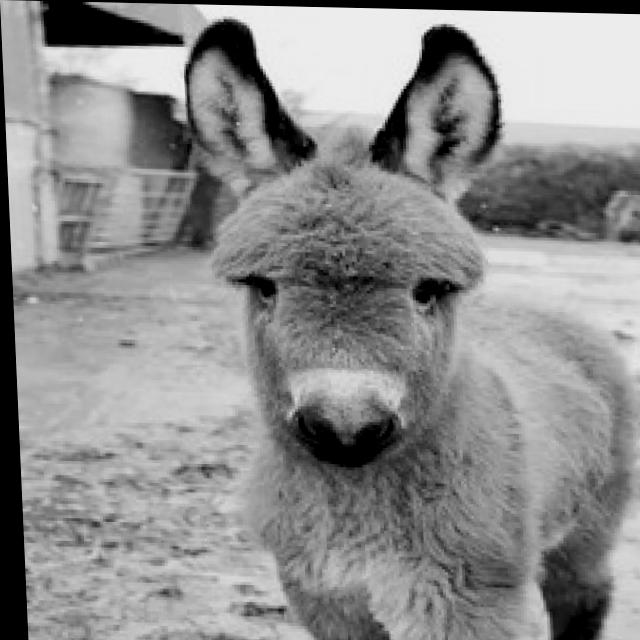Donkey: (178, 13, 640, 640)
